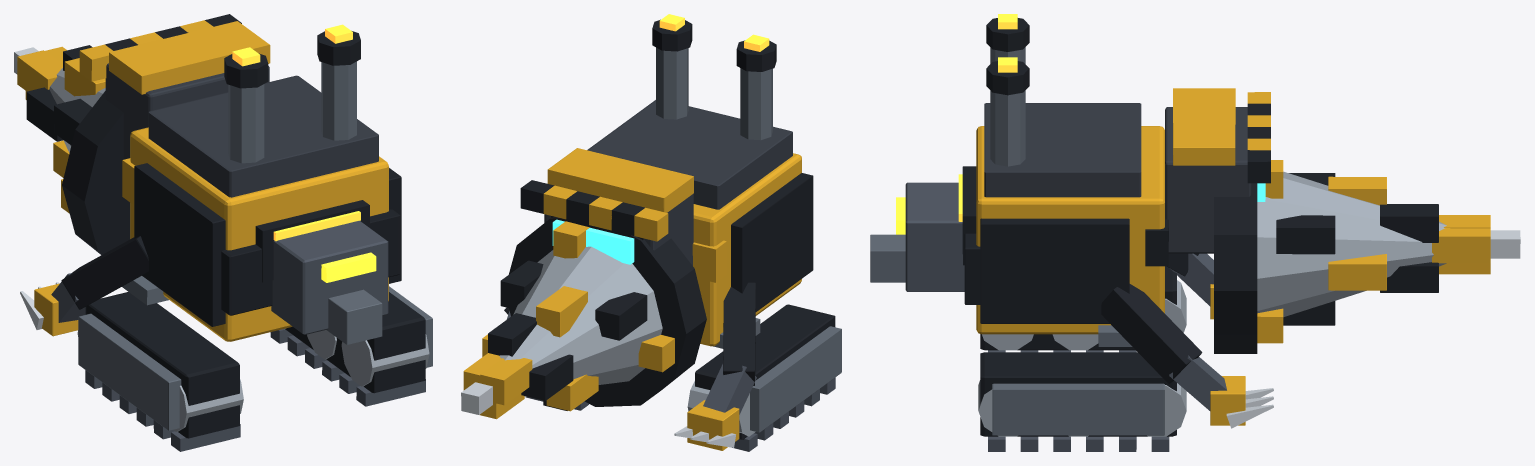
File: drilla.glb
The picture shows the model from 3 angles, left to right: view 1: azimuth 30°, elevation 25°; view 2: azimuth 150°, elevation 25°; view 3: azimuth 270°, elevation 25°; orthographic projection. The views are drawn at different scales.
Parts seen in each view (by area): view 1: body, head, leg.FR, tail, leg.FL, arm.R; view 2: head, body, leg.FR, arm.R; view 3: head, body, leg.FL, arm.L, tail, leg.FR, arm.R.
Part boxes in pixels (x1=…): body: x1=122, y1=24, x2=401, y2=341; head: x1=14, y1=14, x2=270, y2=254; leg.FR: x1=77, y1=292, x2=243, y2=451; tail: x1=271, y1=220, x2=388, y2=344; leg.FL: x1=270, y1=286, x2=432, y2=406; arm.R: x1=20, y1=236, x2=148, y2=336; head: x1=461, y1=148, x2=706, y2=419; body: x1=587, y1=14, x2=813, y2=348; leg.FR: x1=687, y1=304, x2=841, y2=451; arm.R: x1=674, y1=282, x2=756, y2=450; head: x1=1165, y1=88, x2=1520, y2=353; body: x1=958, y1=14, x2=1168, y2=346; leg.FL: x1=978, y1=352, x2=1186, y2=451; arm.L: x1=1101, y1=284, x2=1273, y2=428; tail: x1=870, y1=182, x2=964, y2=291; leg.FR: x1=980, y1=266, x2=1186, y2=352; arm.R: x1=1167, y1=253, x2=1213, y2=319.
Size of the model in its own units: 0.7796 by 1 by 1.66.
